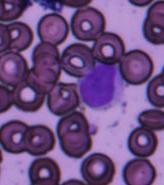L: (77, 63, 124, 110)
